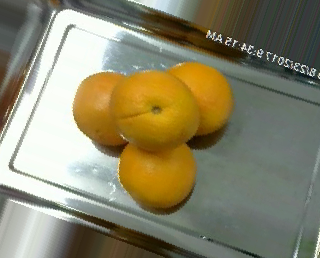Orange: (110, 68, 201, 150), (118, 137, 198, 208), (166, 61, 234, 137), (73, 71, 142, 145)
